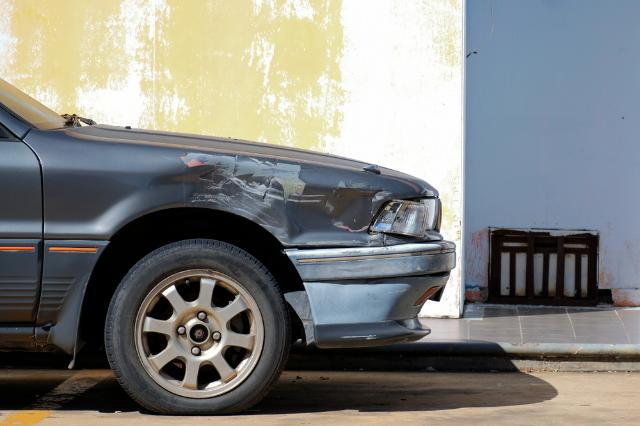dent: (152, 163, 389, 248)
